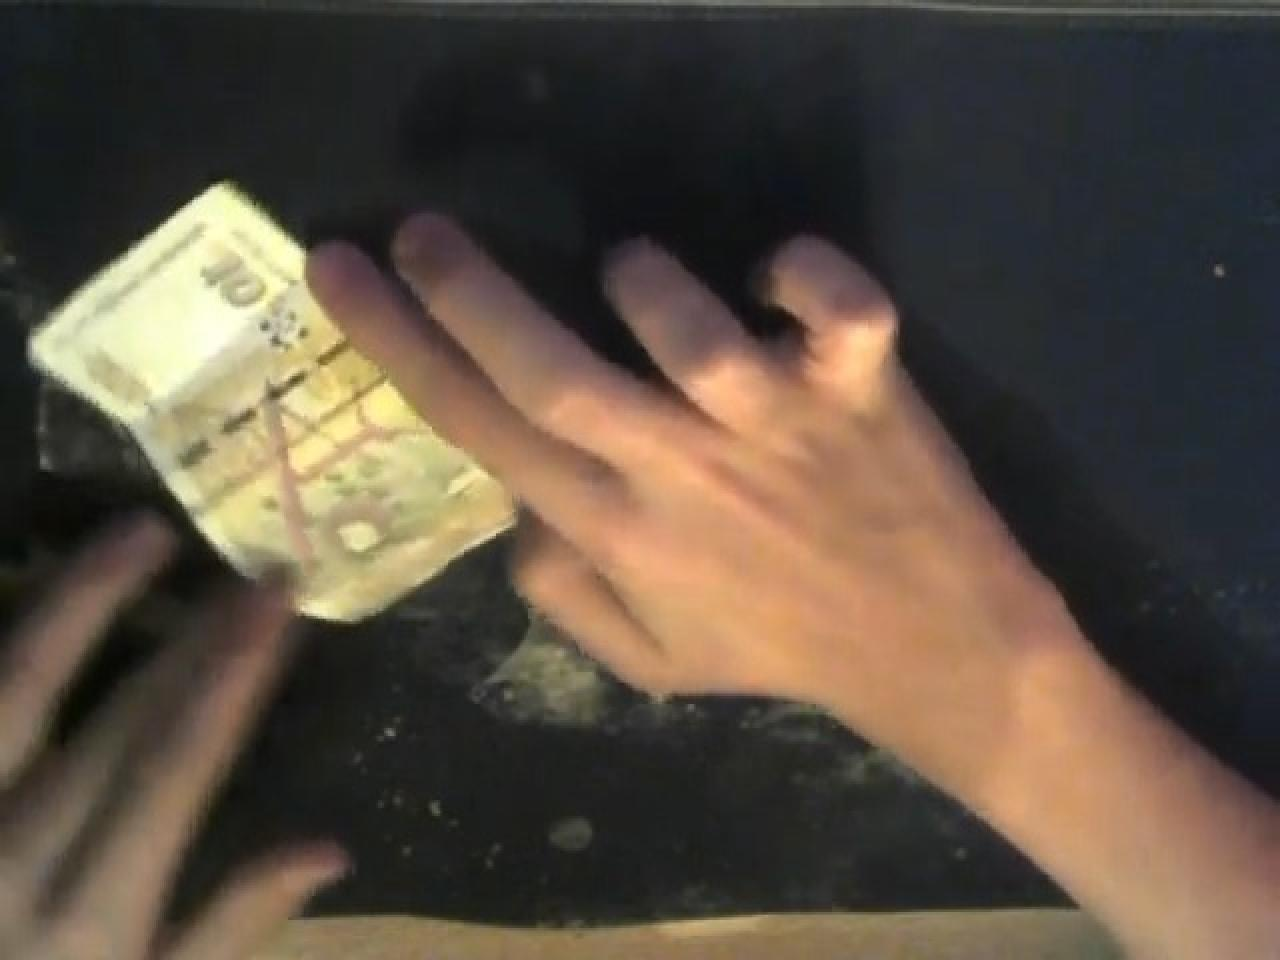10leva: (169, 234, 262, 314)
